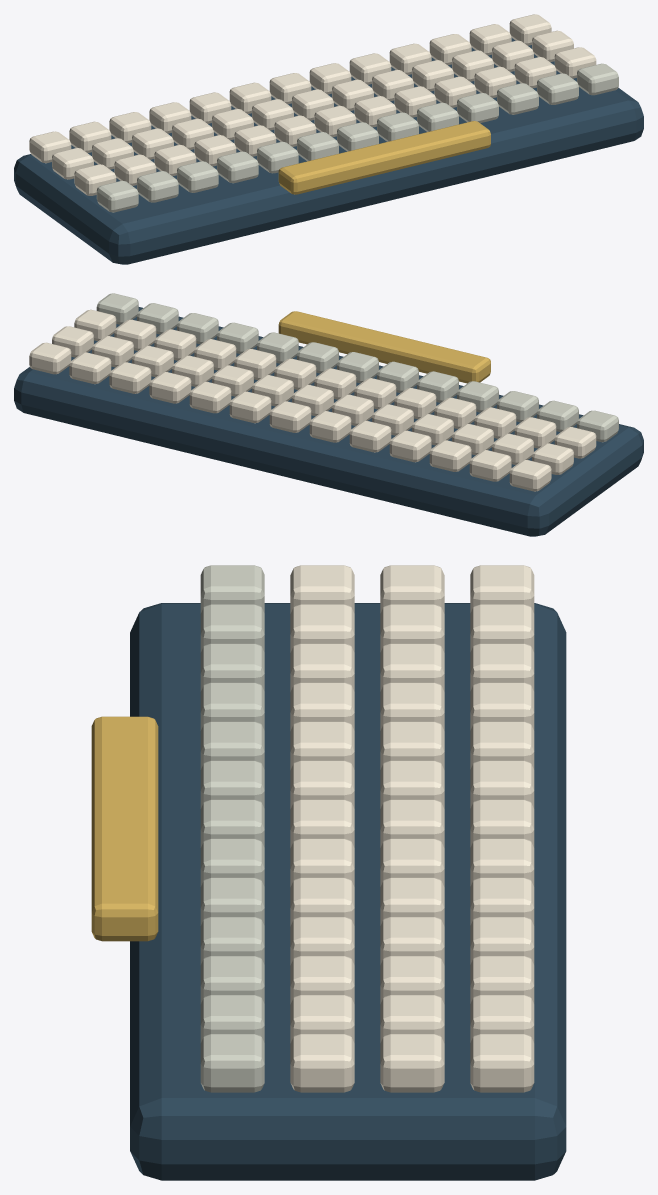
Rendered from keyboard.glb.
The picture shows the model from 3 angles, top to bottom: view 1: azimuth 30°, elevation 25°; view 2: azimuth 150°, elevation 25°; view 3: azimuth 270°, elevation 25°; orthographic projection. The views are drawn at different scales.
Parts seen in each view (by area): view 1: keyboard_Mesh; view 2: keyboard_Mesh; view 3: keyboard_Mesh.
Part boxes in pixels (left/top/right/bottom): keyboard_Mesh: left=14, top=14, right=643, bottom=264; keyboard_Mesh: left=14, top=293, right=643, bottom=536; keyboard_Mesh: left=91, top=565, right=566, bottom=1180.
Bounding box in the file's own units: 0.48 × 0.0525 × 0.185.
